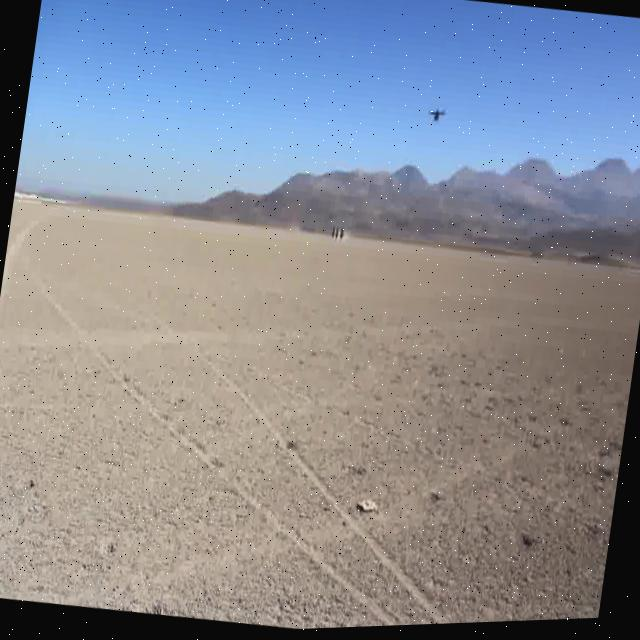drone: (424, 103, 448, 130)
